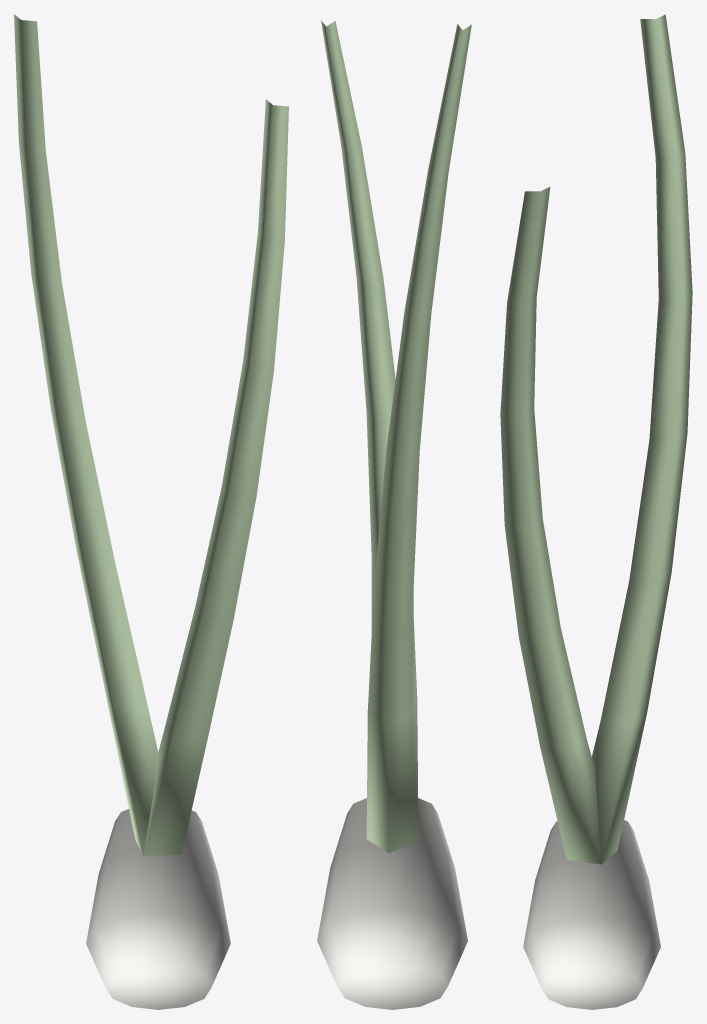
File: scallion_s.glb
3 views of the same model, side by side, from view 1: azimuth 30°, elevation 25°; view 2: azimuth 150°, elevation 25°; view 3: azimuth 270°, elevation 25° (orthographic). The views are drawn at different scales.
Visible parts, largest first — view 1: leaf0, leaf1, bulb; view 2: leaf1, bulb, leaf0; view 3: leaf1, leaf0, bulb.
Boxes of the visible parts, left/top/right/bottom form: leaf0: left=143, top=99, right=288, bottom=855; leaf1: left=14, top=14, right=159, bottom=855; bulb: left=86, top=809, right=230, bottom=1009; leaf1: left=366, top=24, right=471, bottom=852; bulb: left=317, top=798, right=467, bottom=1009; leaf0: left=321, top=20, right=418, bottom=839; leaf1: left=592, top=14, right=692, bottom=864; leaf0: left=500, top=187, right=601, bottom=864; bulb: left=523, top=820, right=660, bottom=1009.
Size of the model in its own units: 0.0145 by 0.0666 by 0.0125.
